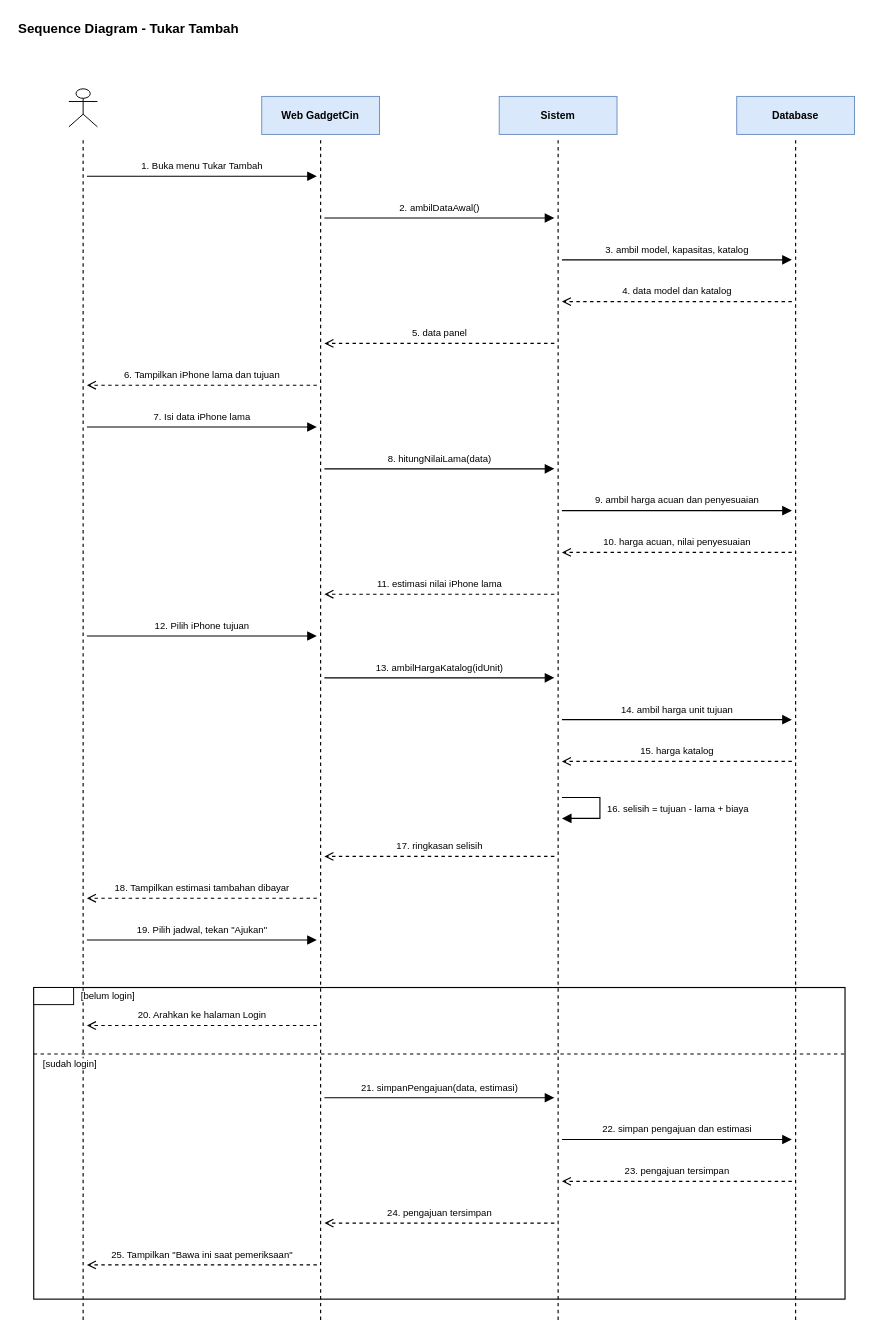
Some shapes in this 878 by 1340 pixel diagram are drawn without their labels. Each missing label, with the box of its shape:
alt: (33, 987, 74, 1005)
Pengguna: (68, 88, 97, 127)
